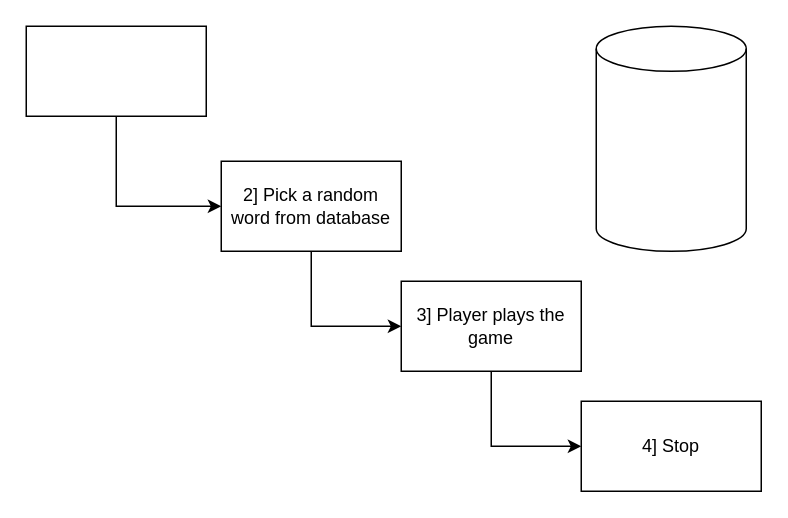
This 788x518 diagram has some shape labels left out. The centre of each missing label's shape, as x and y in pixels:
1] Start: (115,70)
Database containing all words for the game: (670,138)
